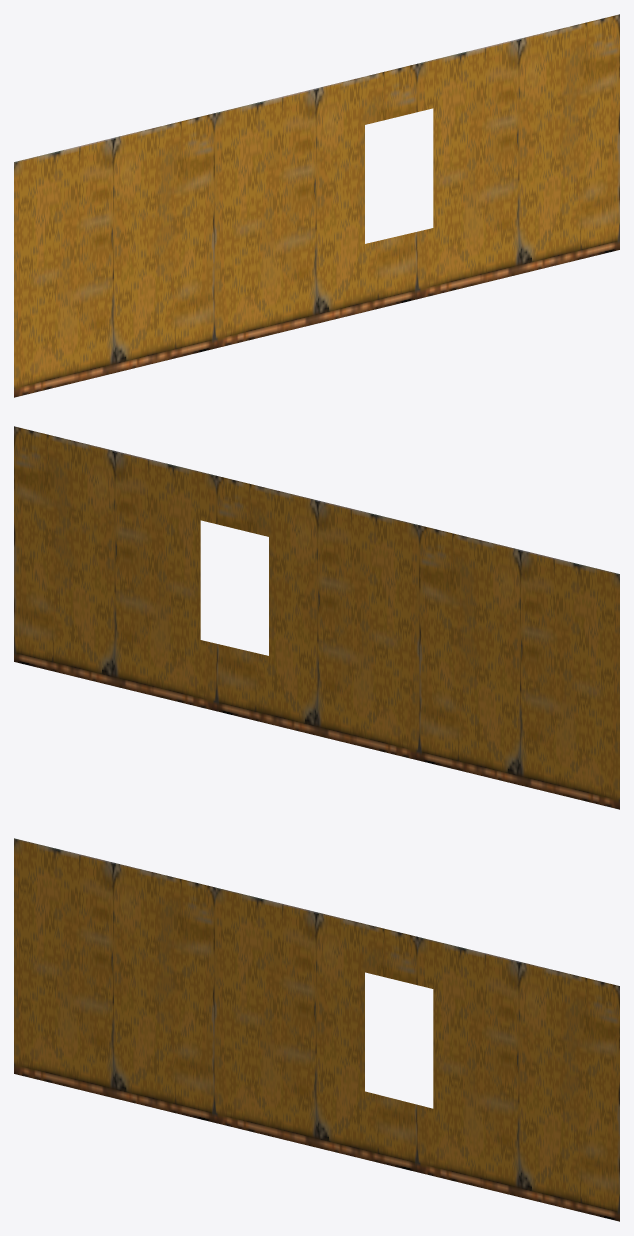
File: W_AI1_xxfx_1635.glb
3 views of the same model, one above another, from view 1: azimuth 30°, elevation 25°; view 2: azimuth 150°, elevation 25°; view 3: azimuth 330°, elevation 25° (orthographic).
Visible parts, largest first — view 1: polySurfaceShape824; view 2: polySurfaceShape824; view 3: polySurfaceShape824.
Part boxes in pixels (<box>): polySurfaceShape824: <box>14,14,619,397</box>; polySurfaceShape824: <box>14,426,619,809</box>; polySurfaceShape824: <box>14,838,619,1221</box>.
Size of the model in its own units: 0.9385 by 0.3486 by 1.52e-08.
1 material, 1 textured.
